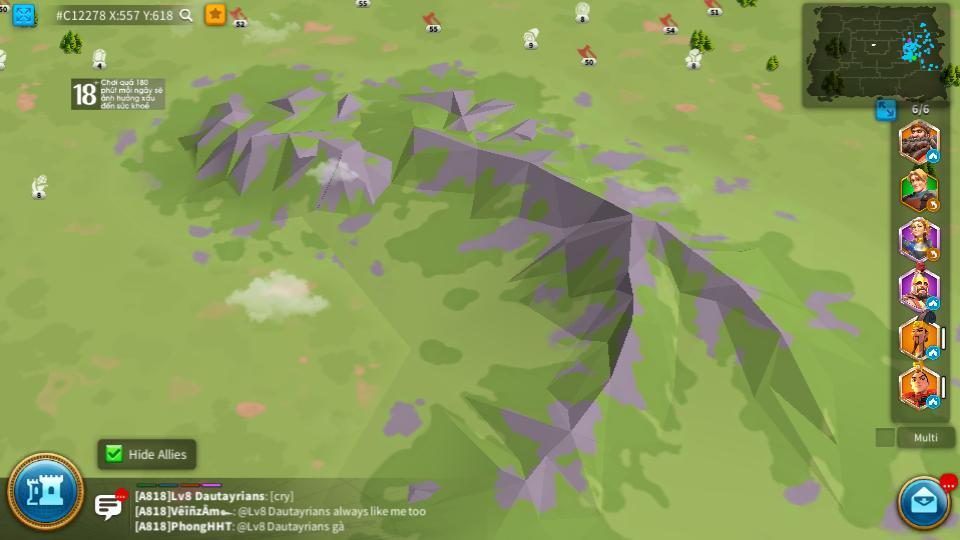gem-z-out: (88, 48, 108, 69), (0, 48, 7, 70)
march_idle: (926, 395, 941, 407), (926, 150, 940, 161), (927, 348, 940, 359), (925, 297, 938, 307)
march_returning: (926, 248, 941, 261), (927, 201, 940, 212)
